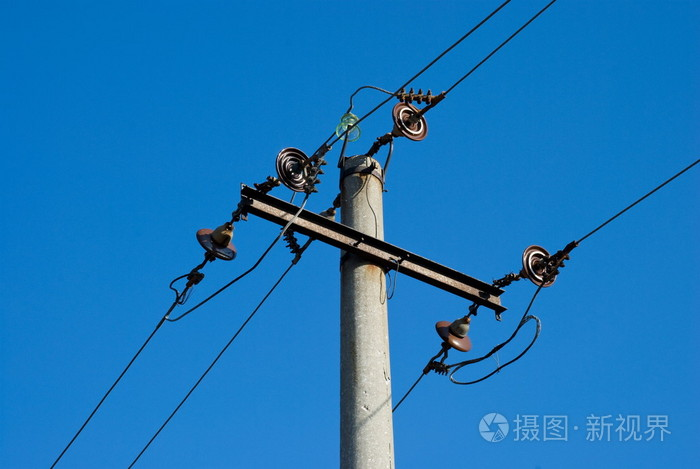insulator: (275, 142, 316, 192), (195, 228, 237, 264), (522, 245, 557, 288), (391, 103, 429, 141), (435, 319, 474, 352)
